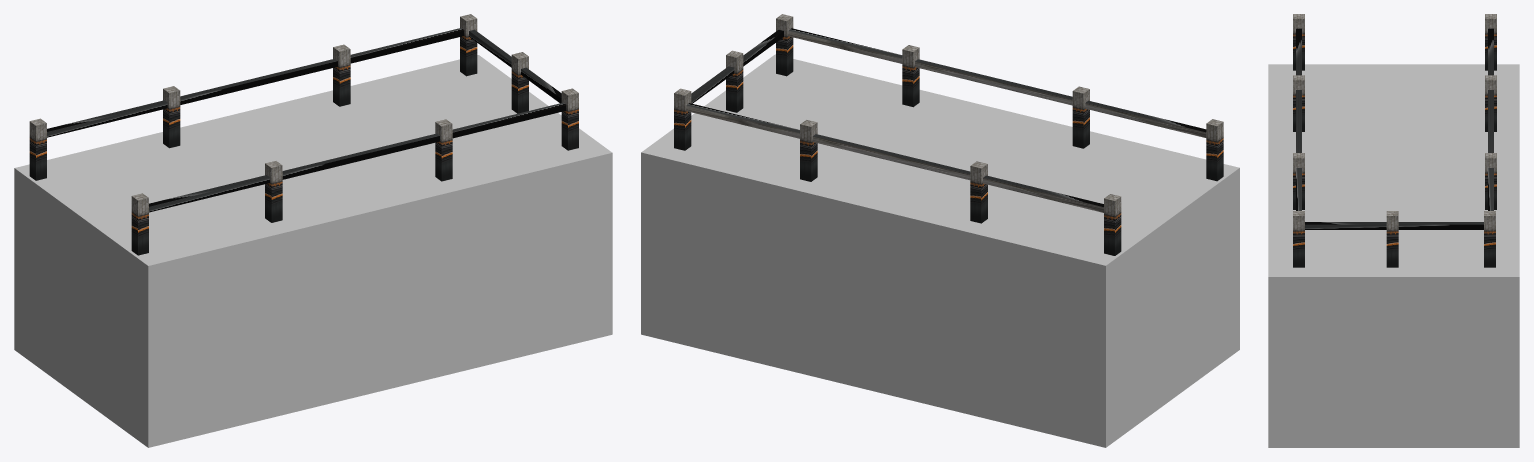
Rendered from sm_square_2cell.FBX.
3 renders of one model, left to right at view 1: azimuth 30°, elevation 25°; view 2: azimuth 150°, elevation 25°; view 3: azimuth 270°, elevation 25°, orthographic. The views are drawn at different scales.
Parts seen in each view (by area): view 1: square_2cell, fence; view 2: square_2cell, fence; view 3: square_2cell, fence.
Boxes of the visible parts, <box> form: square_2cell: <box>14,55,612,447</box>; fence: <box>29,14,578,255</box>; square_2cell: <box>641,54,1239,447</box>; fence: <box>674,14,1223,255</box>; square_2cell: <box>1268,64,1519,447</box>; fence: <box>1293,14,1496,267</box>.
Size of the model in its own units: 4 by 1.95 by 2.
